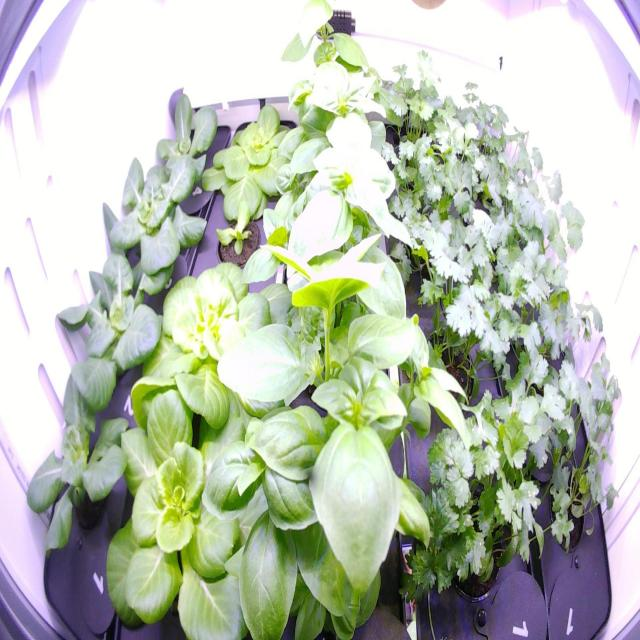young: (96, 358, 318, 638), (120, 246, 322, 469), (16, 352, 149, 568), (48, 229, 170, 421), (94, 134, 215, 308), (194, 94, 320, 239), (142, 84, 224, 212), (210, 194, 266, 276)
